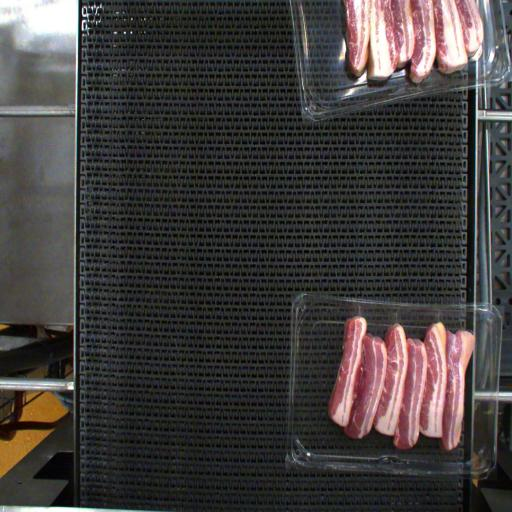packaging-error: (348, 289, 366, 317), (386, 300, 400, 328)
